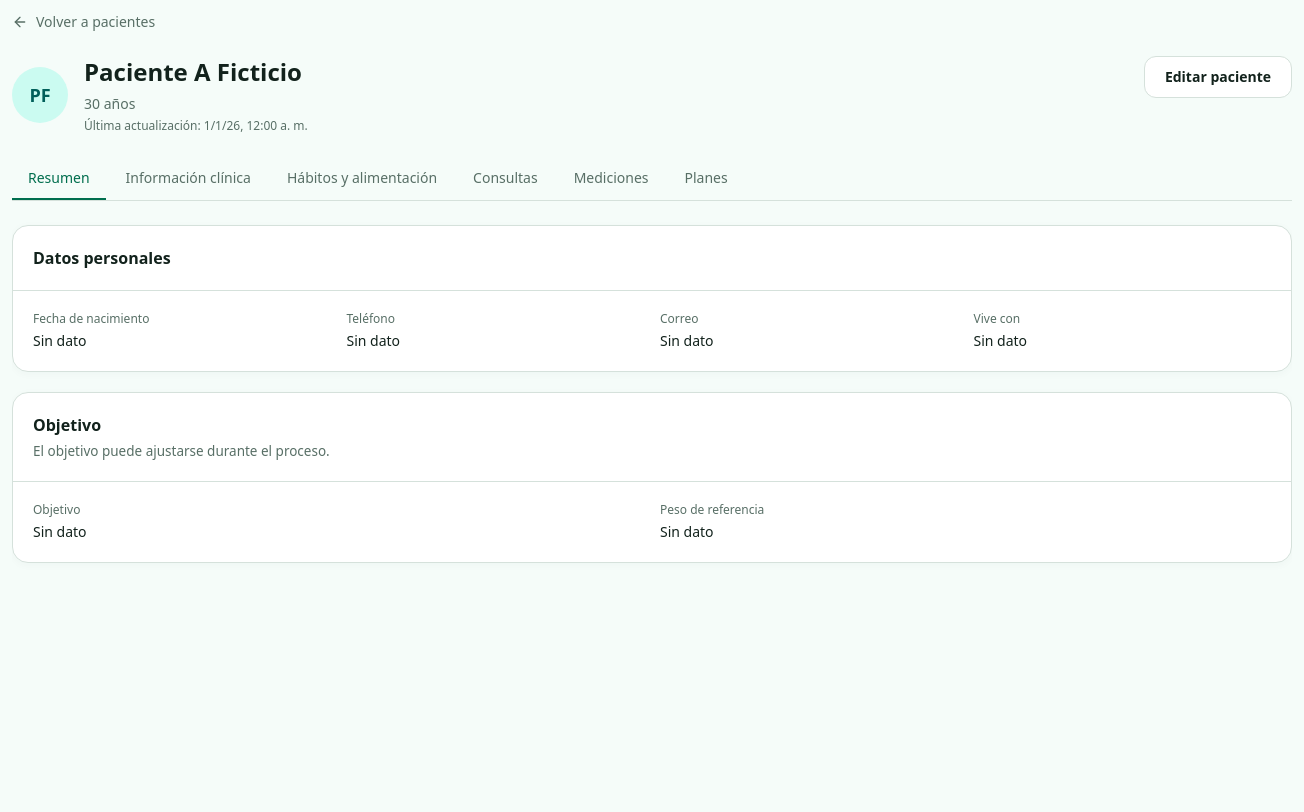
pestaña Planes (T39) › un error de la IA muestra el motivo y permite reintentar
The image size is (1304, 812).
What coordinates should you click on to do the following:
click the button "Planes"
I would click on:
 (706, 179)
Its box is left=668, top=158, right=744, bottom=200.
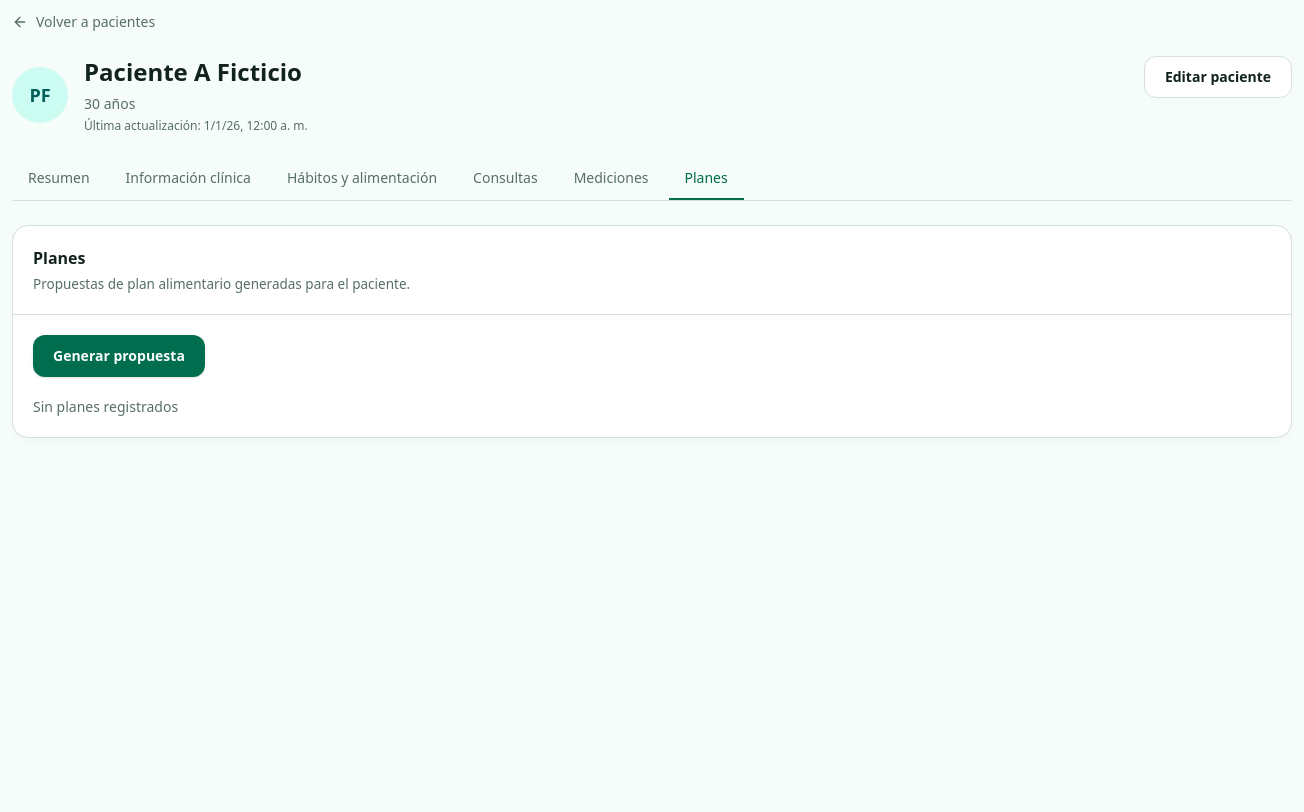
Expected: the button "Generar propuesta" is shown
What coordinates should you click on to do the following:
click the button "Generar propuesta"
I would click on:
 (119, 356)
Its box is left=33, top=335, right=205, bottom=377.
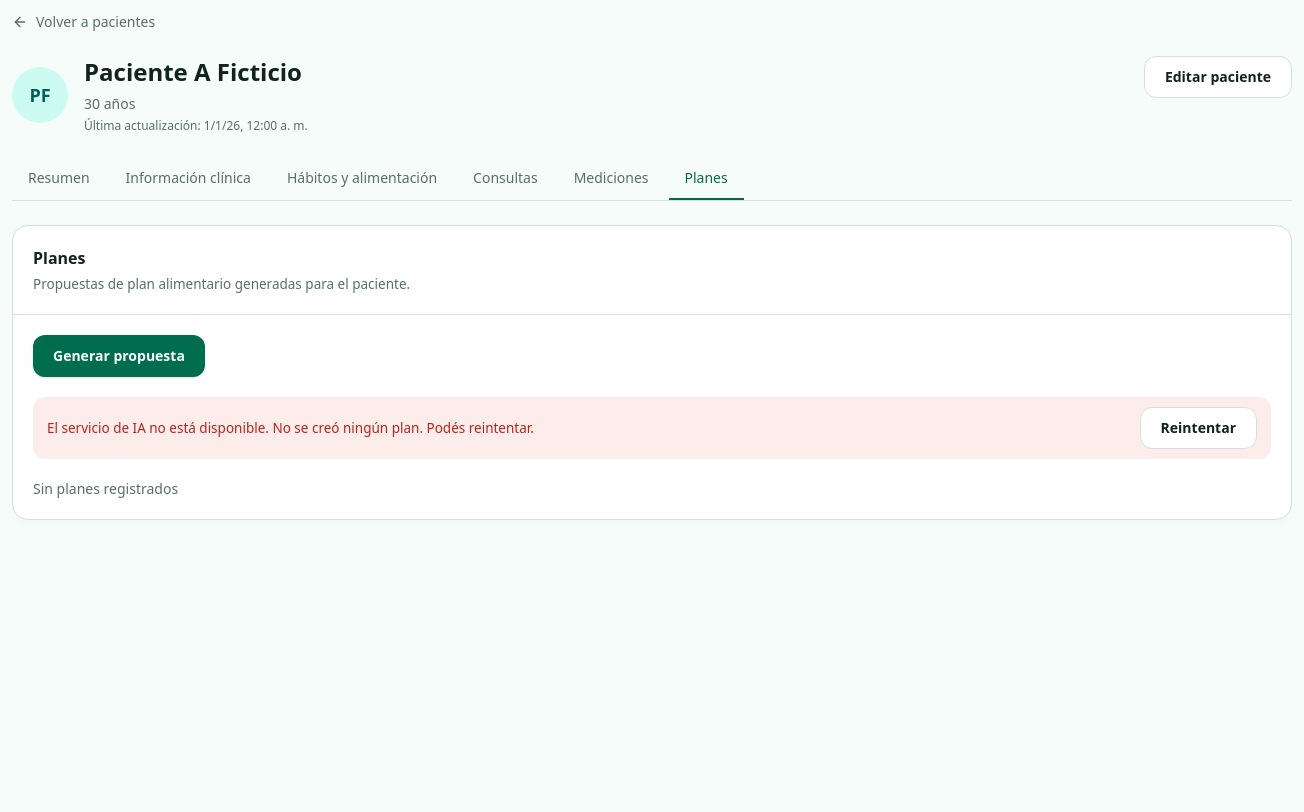
Expected: the message reads "El servicio de IA no está disponible. No se creó ningún plan. Podés reintentar.", left=47, top=419, right=534, bottom=437
Expected: the button "Reintentar" is shown
What coordinates should you click on to do the following:
click the button "Reintentar"
I would click on:
 (1198, 428)
Its box is left=1140, top=407, right=1257, bottom=449.
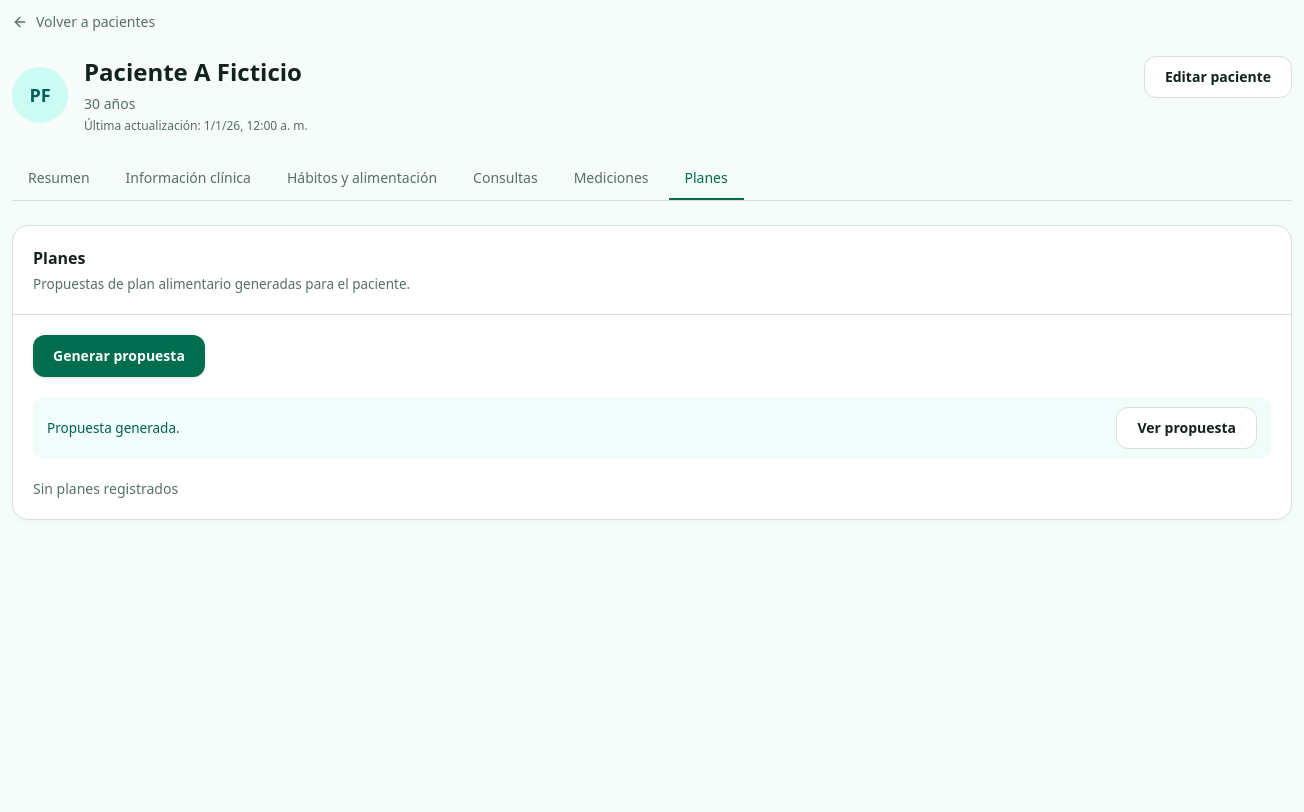
Expected: the message "El servicio de IA no está disponible. No se creó ningún plan. Podés reintentar." is gone
Expected: the text "Propuesta generada." is shown, left=47, top=418, right=180, bottom=438
